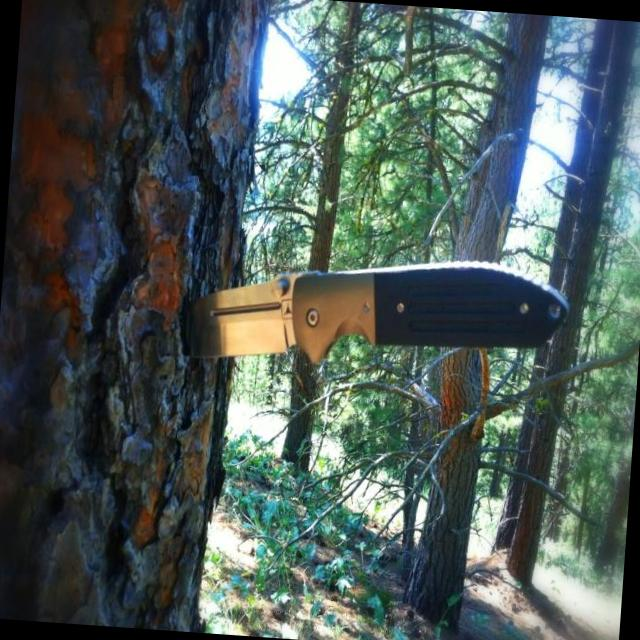Knife: (190, 262, 567, 362)
